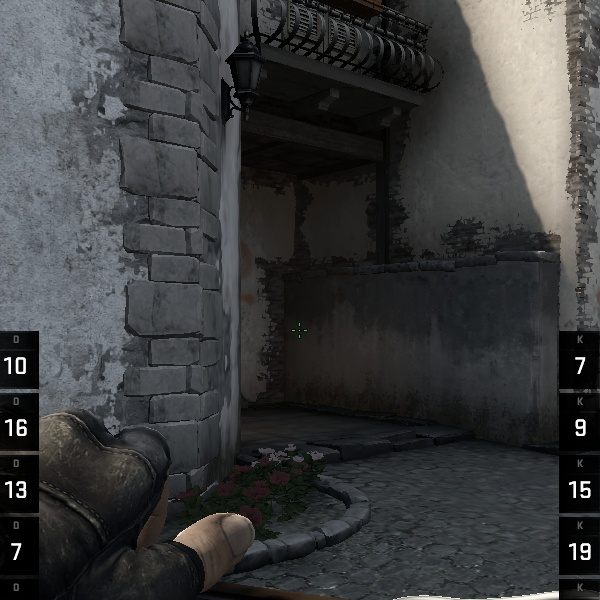ct_head: (206, 0, 553, 256)
